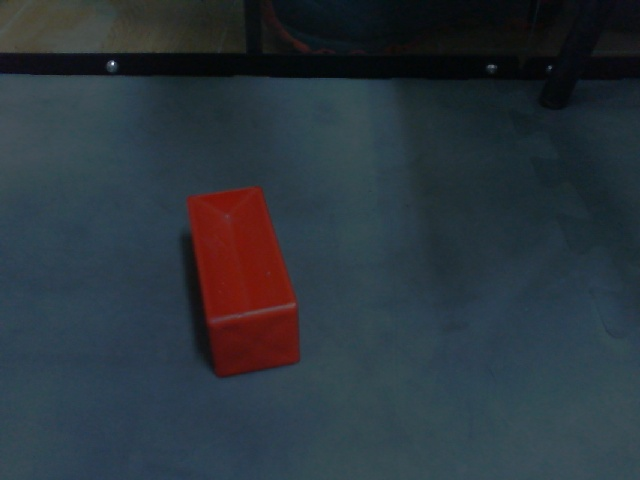RedSample: (182, 182, 303, 380)
